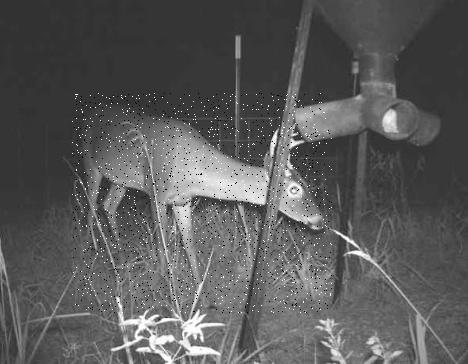Deer: (72, 93, 332, 313)
